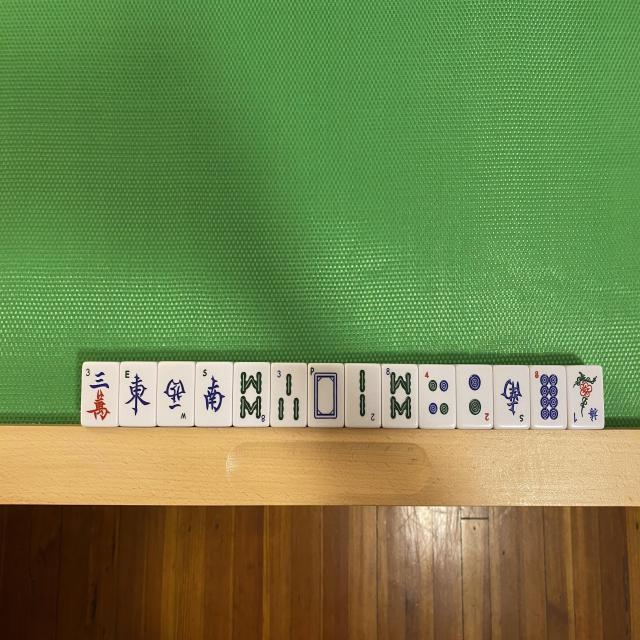bf1: (569, 367, 602, 427)
hdw: (308, 364, 344, 427)
hwe: (121, 365, 158, 428)
hws: (494, 367, 530, 429), (198, 362, 232, 426)
hww: (160, 364, 194, 428)
sb2: (346, 362, 381, 424)
sb3: (272, 364, 308, 427)
sb8: (384, 364, 420, 428), (232, 362, 269, 424)
sc3: (84, 363, 120, 426)
sd2: (456, 366, 494, 426)
sd4: (420, 367, 455, 428)
sd8: (534, 367, 568, 427)
